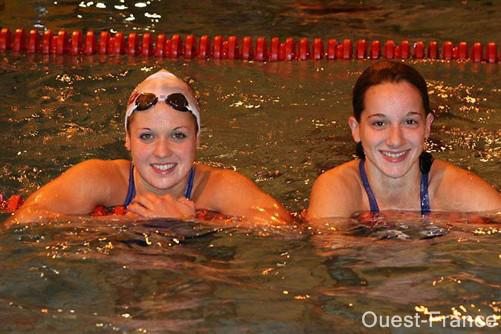human: (9, 68, 298, 231), (303, 60, 501, 221)
